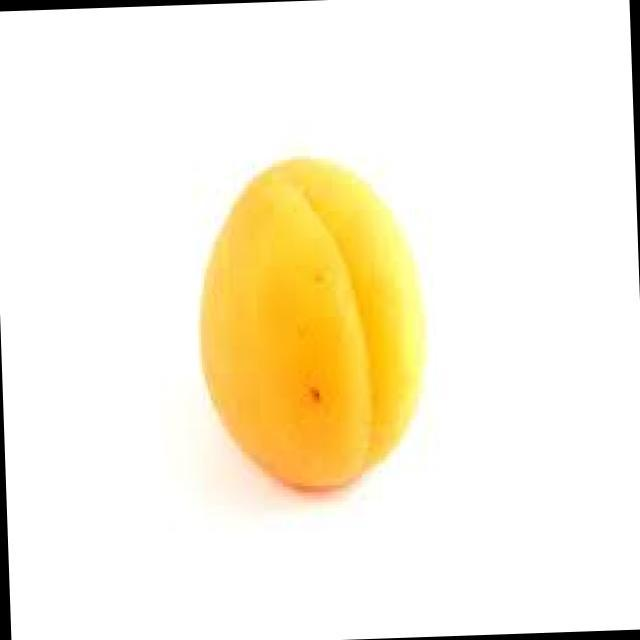Apricot: (163, 108, 460, 526)
